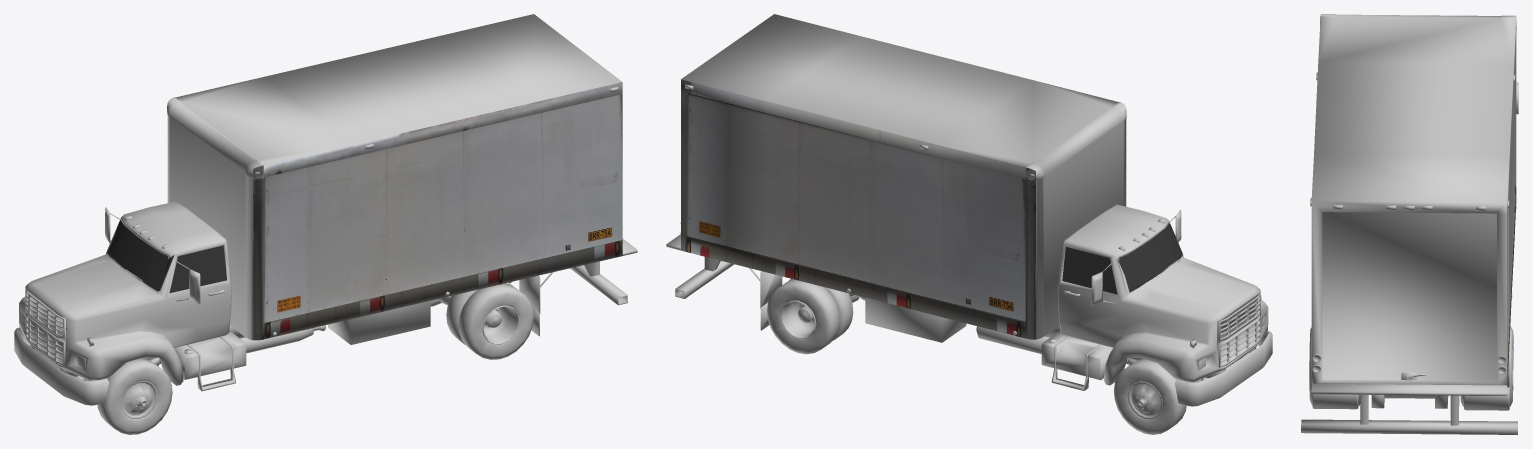
Rendered from camioncito.fbx.
The picture shows the model from 3 angles, left to right: view 1: azimuth 30°, elevation 25°; view 2: azimuth 150°, elevation 25°; view 3: azimuth 270°, elevation 25°; orthographic projection. The views are drawn at different scales.
Parts seen in each view (by area): view 1: PackageTruck, Pintable; view 2: PackageTruck, PackageTruck.002; view 3: PackageTruck, PackageTruck.002.
Boxes of the visible parts, box(x1,y1,x2,y2) form: PackageTruck: box(14, 14, 637, 434); Pintable: box(253, 82, 622, 340); PackageTruck: box(666, 14, 1272, 434); PackageTruck.002: box(681, 79, 1035, 339); PackageTruck: box(1301, 14, 1518, 434); PackageTruck.002: box(1507, 20, 1516, 386).
Bounding box in the file's own units: 2840 × 1229 × 917.
